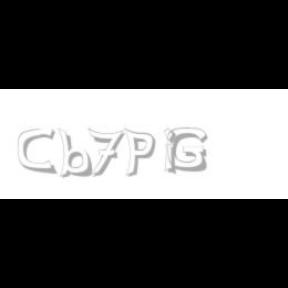7: (88, 128, 124, 178)
C: (18, 128, 55, 174)
G: (167, 128, 207, 172)
P: (124, 128, 156, 178)
b: (57, 128, 95, 178)
i: (164, 128, 180, 176)
